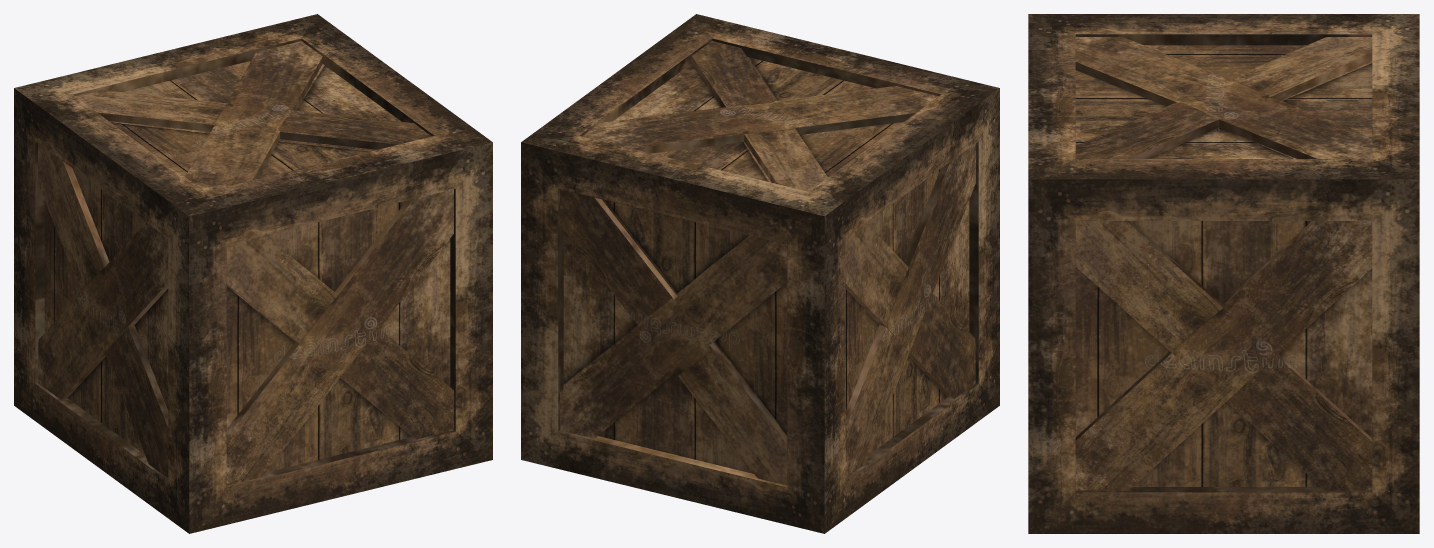
Rendered from Crate.fbx.
3 renders of one model, left to right at view 1: azimuth 30°, elevation 25°; view 2: azimuth 150°, elevation 25°; view 3: azimuth 270°, elevation 25°, orthographic. The views are drawn at different scales.
Parts seen in each view (by area): view 1: pCube10; view 2: pCube10; view 3: pCube10.
Part boxes in pixels (left/top/right/bottom): pCube10: left=14, top=14, right=492, bottom=533; pCube10: left=521, top=14, right=999, bottom=533; pCube10: left=1028, top=14, right=1419, bottom=533.
Bounding box in the file's own units: 2 × 2 × 2.
